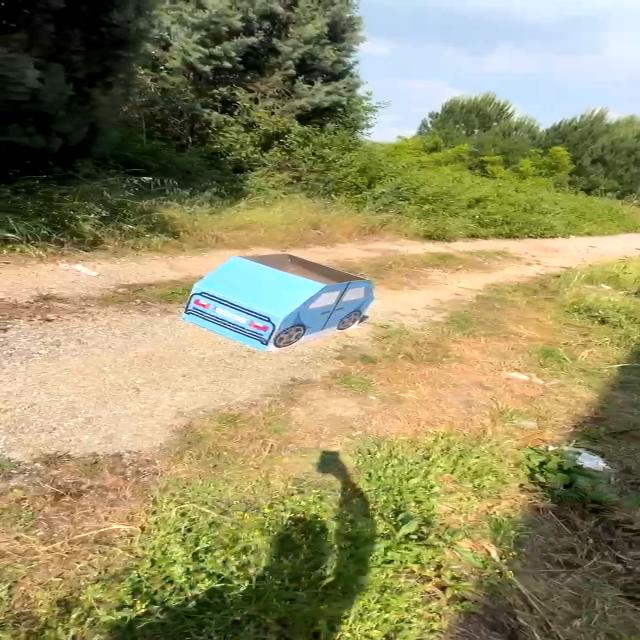blue_car: (174, 246, 390, 361)
